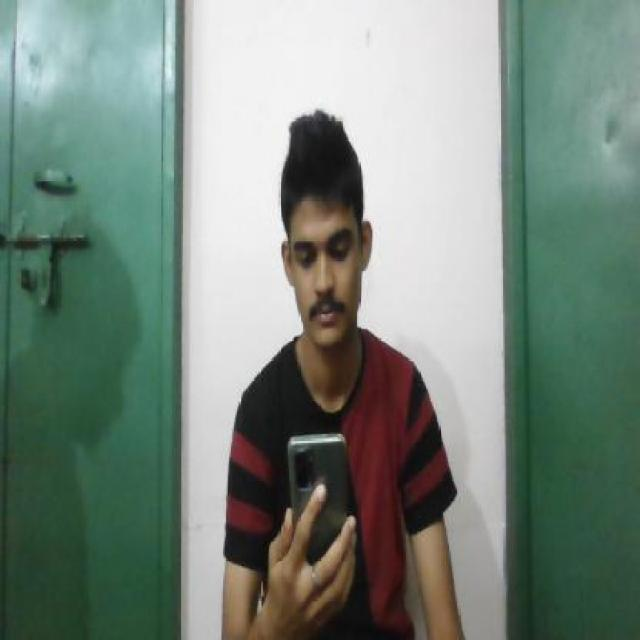Phone: (284, 430, 350, 576)
